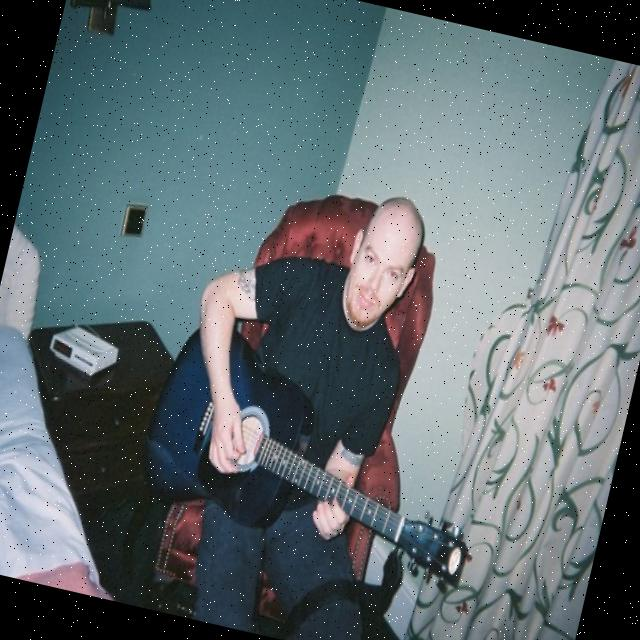guitar: (123, 312, 510, 598)
